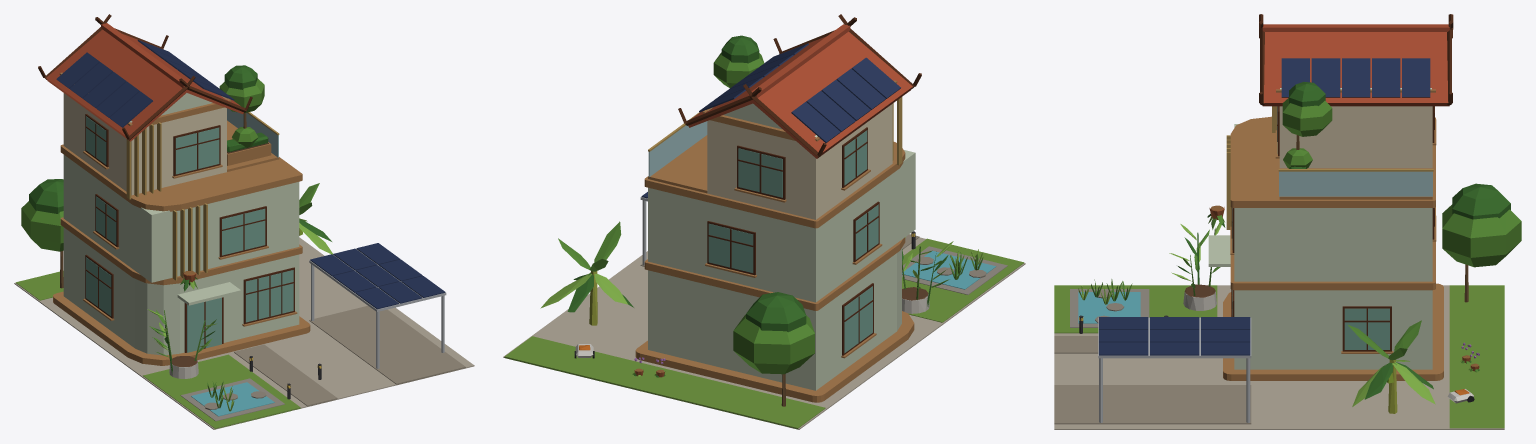
File: house12_2.glb
3 views of the same model, side by side, from view 1: azimuth 30°, elevation 25°; view 2: azimuth 150°, elevation 25°; view 3: azimuth 270°, elevation 25° (orthographic). The views are drawn at different scales.
Visible parts, largest first — view 1: body; view 2: body; view 3: body.
Boxes of the visible parts, box(x1,y1,x2,y2) form: body: box(14, 14, 474, 429); body: box(503, 14, 1025, 429); body: box(1054, 14, 1521, 429).
Size of the model in its own units: 12.01 by 12.09 by 16.5.
